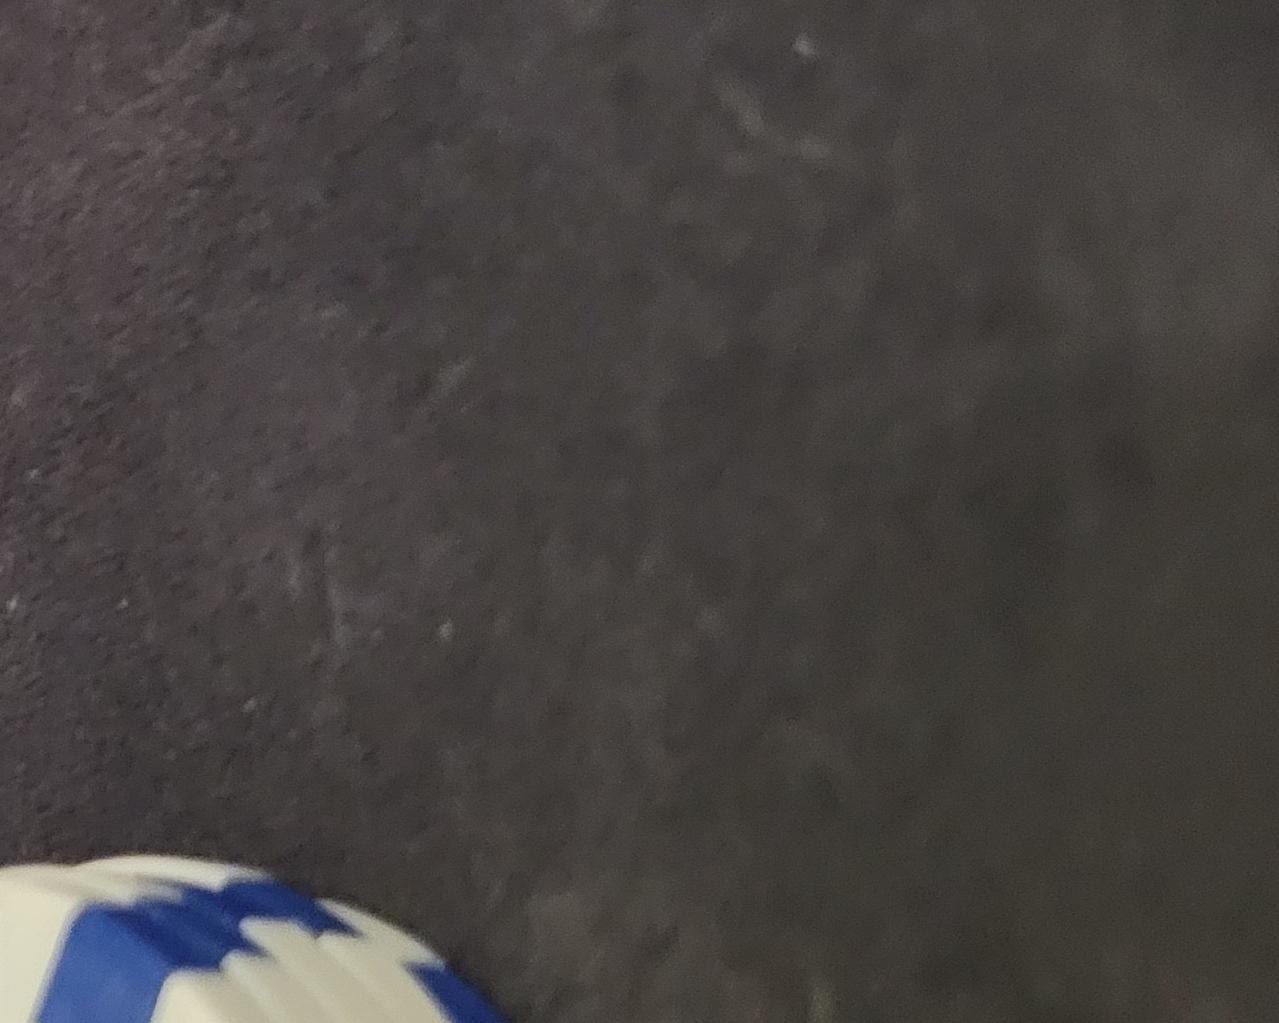Chip: (1, 223, 329, 1023)
